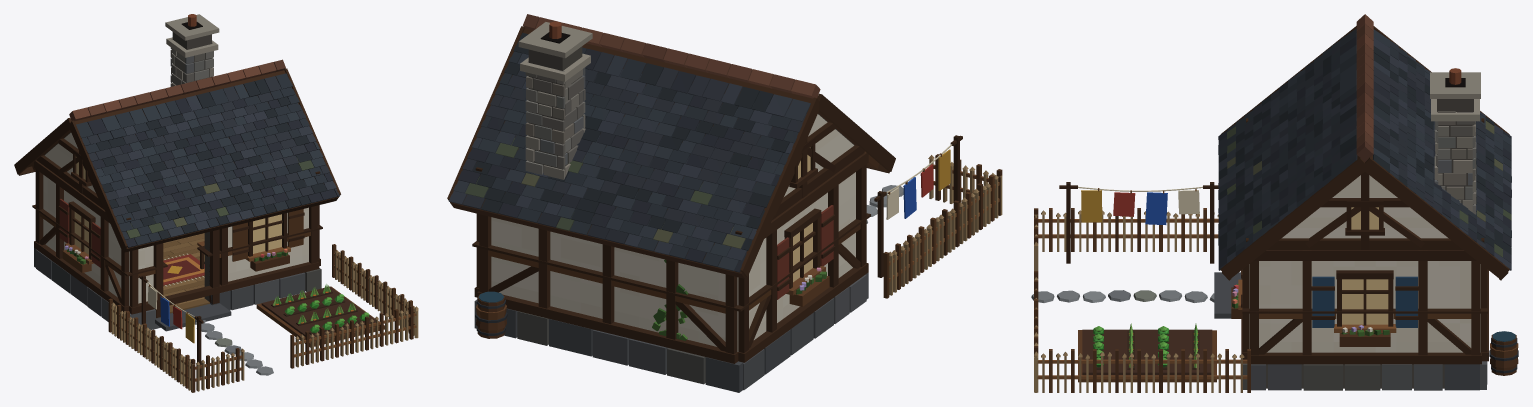
Rendered from cottage-1.glb.
The picture shows the model from 3 angles, left to right: view 1: azimuth 30°, elevation 25°; view 2: azimuth 150°, elevation 25°; view 3: azimuth 270°, elevation 25°; orthographic projection. The views are drawn at different scales.
Visible parts, largest first — view 1: cottage-1_shell, cottage-1_interior, cottage-1_glass, cottage-1_cap; view 2: cottage-1_shell, cottage-1_interior, cottage-1_cap, cottage-1_glass; view 3: cottage-1_shell, cottage-1_interior, cottage-1_glass, cottage-1_cap.
Boxes of the visible parts, bbox=[...] form: cottage-1_shell: bbox=[14, 14, 340, 331]; cottage-1_interior: bbox=[108, 233, 418, 392]; cottage-1_glass: bbox=[74, 157, 281, 254]; cottage-1_cap: bbox=[32, 204, 322, 276]; cottage-1_shell: bbox=[447, 14, 895, 392]; cottage-1_interior: bbox=[475, 135, 1002, 338]; cottage-1_cap: bbox=[472, 213, 870, 311]; cottage-1_glass: bbox=[793, 147, 812, 282]; cottage-1_shell: bbox=[1214, 14, 1511, 390]; cottage-1_interior: bbox=[1031, 182, 1518, 392]; cottage-1_glass: bbox=[1342, 207, 1388, 324]; cottage-1_cap: bbox=[1242, 269, 1487, 313].
Size of the model in its own units: 7.3 by 6.92 by 10.52.
